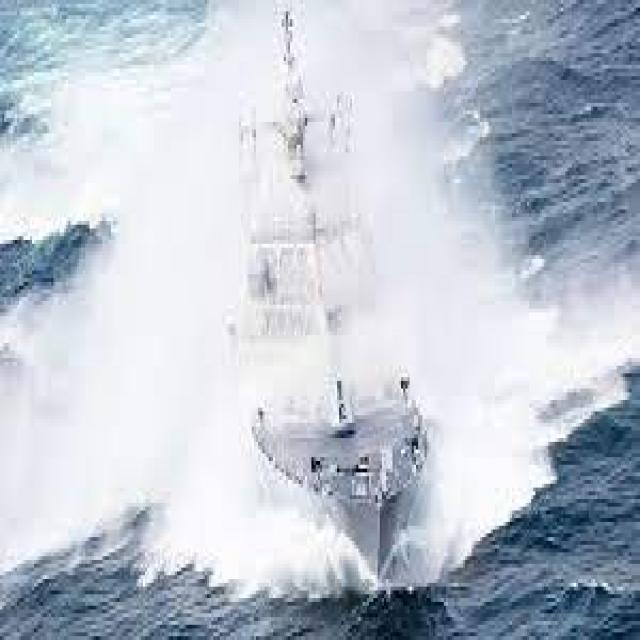navalvessels: (228, 3, 422, 584)
